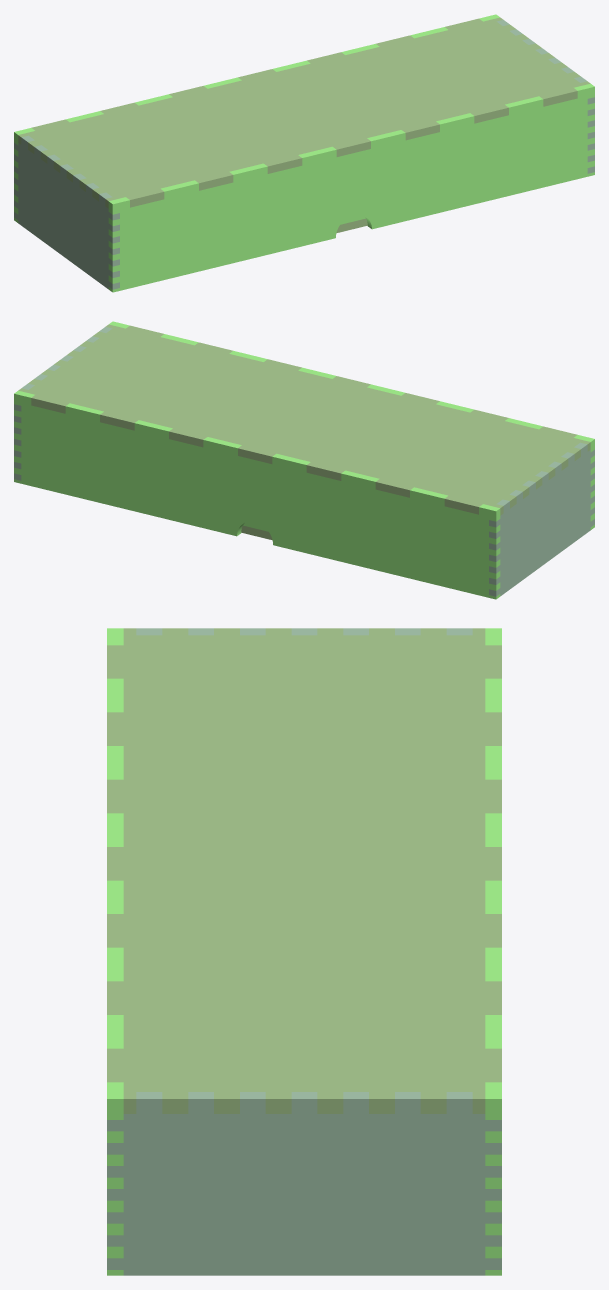
The picture shows the model from 3 angles, top to bottom: view 1: azimuth 30°, elevation 25°; view 2: azimuth 150°, elevation 25°; view 3: azimuth 270°, elevation 25°; orthographic projection. The views are drawn at different scales.
Visible parts, largest first — view 1: out.top.bottom, out.top.right, out.top.back, out.top.left, out.top.front; view 2: out.top.bottom, out.top.left, out.top.back, out.top.right, out.top.front; view 3: out.top.bottom, out.top.front, out.top.left, out.top.right, out.top.back.
Boxes of the visible parts, x1=… form: out.top.bottom: x1=18, y1=17, x2=590, y2=208; out.top.right: x1=108, y1=83, x2=594, y2=292; out.top.back: x1=14, y1=135, x2=119, y2=289; out.top.left: x1=14, y1=14, x2=499, y2=222; out.top.front: x1=496, y1=20, x2=594, y2=173; out.top.bottom: x1=18, y1=324, x2=590, y2=515; out.top.left: x1=14, y1=390, x2=500, y2=599; out.top.back: x1=489, y1=442, x2=594, y2=596; out.top.right: x1=109, y1=321, x2=594, y2=529; out.top.front: x1=14, y1=327, x2=112, y2=480; out.top.bottom: x1=107, y1=628, x2=501, y2=1113; out.top.front: x1=107, y1=1092, x2=501, y2=1275; out.top.left: x1=485, y1=628, x2=501, y2=1275; out.top.right: x1=107, y1=628, x2=123, y2=1275; out.top.back: x1=136, y1=628, x2=472, y2=635.
Bounding box in the file's own units: 0.2 × 0.035 × 0.071.
